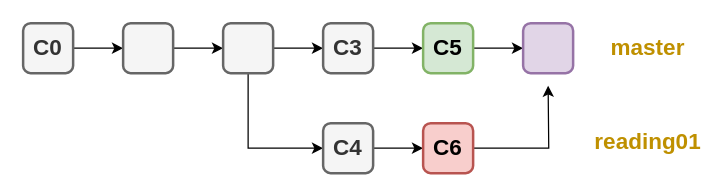
This 721x195 diagram has some shape labels left out. The shapes that lost their labels are listed below. From the top down, each one's centre as x and y in pixels, then its label:
(147,47): C1
(247,47): C2
(547,47): C7
